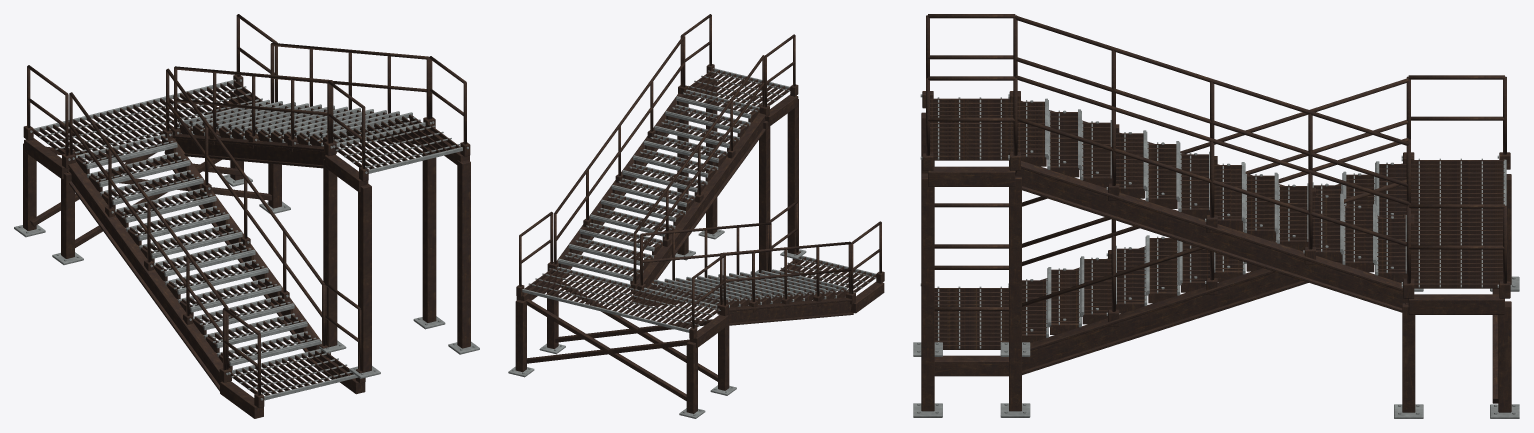
The model's file is f3_v3_switchback_stair.glb.
The picture shows the model from 3 angles, left to right: view 1: azimuth 30°, elevation 25°; view 2: azimuth 150°, elevation 25°; view 3: azimuth 270°, elevation 25°; orthographic projection. The views are drawn at different scales.
Parts seen in each view (by area): view 1: f3_oxidized_iron_surface, f3_bare_worn_steel_surface; view 2: f3_oxidized_iron_surface, f3_bare_worn_steel_surface; view 3: f3_oxidized_iron_surface, f3_bare_worn_steel_surface.
Boxes of the visible parts, bbox=[...] form: f3_oxidized_iron_surface: bbox=[23, 14, 470, 418]; f3_bare_worn_steel_surface: bbox=[14, 79, 479, 400]; f3_oxidized_iron_surface: bbox=[515, 14, 884, 413]; f3_bare_worn_steel_surface: bbox=[508, 68, 876, 418]; f3_oxidized_iron_surface: bbox=[921, 14, 1511, 412]; f3_bare_worn_steel_surface: bbox=[913, 94, 1519, 418].
Bounding box in the file's own units: 3.79 × 4.59 × 6.94.
Materials: 2 (2 with a texture image).
